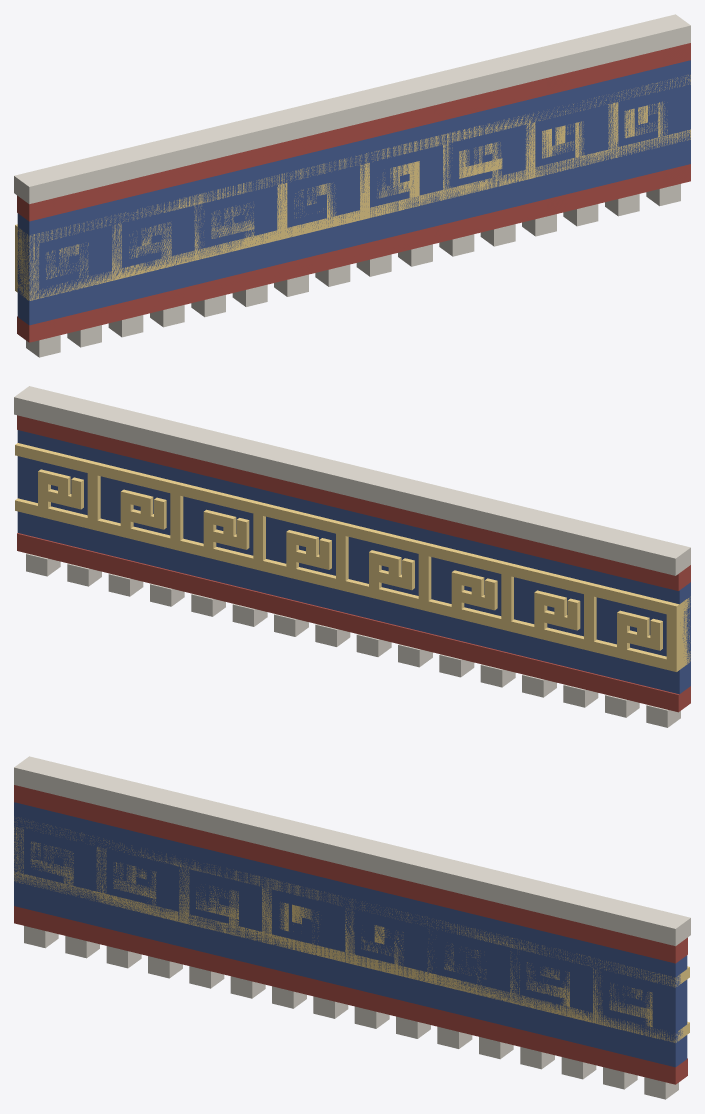
File: frieze.glb
3 views of the same model, one above another, from view 1: azimuth 30°, elevation 25°; view 2: azimuth 150°, elevation 25°; view 3: azimuth 330°, elevation 25° (orthographic).
Parts seen in each view (by area): view 1: ground, stonework, fillets, meander; view 2: ground, meander, stonework, fillets; view 3: ground, stonework, fillets, meander.
Part boxes in pixels (box(x1,y1,x2,y2)): ground: box(17, 60, 690, 325); stonework: box(14, 14, 690, 357); fillets: box(17, 43, 690, 342); meander: box(15, 75, 690, 300); ground: box(17, 430, 690, 694); meander: box(15, 443, 690, 671); stonework: box(14, 386, 690, 727); fillets: box(17, 415, 690, 712); ground: box(14, 802, 687, 1067); stonework: box(14, 756, 690, 1099); fillets: box(14, 785, 687, 1084); meander: box(14, 817, 689, 1042).
Size of the model in its own units: 2 by 0.5 by 0.08.
